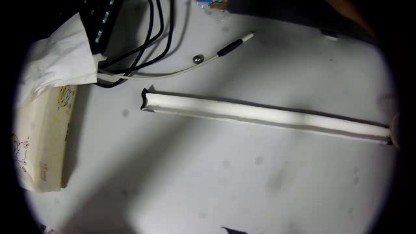gangzhu: (191, 53, 203, 64)
